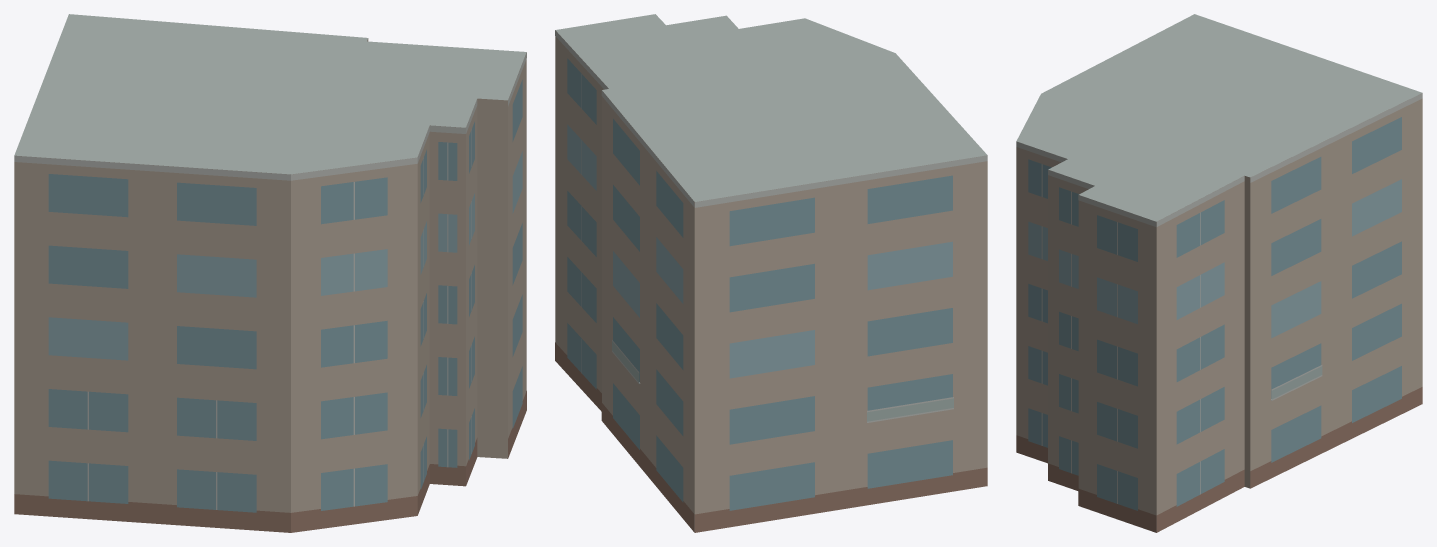
The model's file is survey-upis-32712327.glb.
3 views of the same model, side by side, from view 1: azimuth 30°, elevation 25°; view 2: azimuth 150°, elevation 25°; view 3: azimuth 270°, elevation 25° (orthographic). The views are drawn at different scales.
Parts seen in each view (by area): view 1: survey-upis-32712327.tmp; view 2: survey-upis-32712327.tmp; view 3: survey-upis-32712327.tmp.
Boxes of the visible parts, x1,y1,x2,y2 form: survey-upis-32712327.tmp: (14, 14, 526, 532); survey-upis-32712327.tmp: (555, 14, 987, 532); survey-upis-32712327.tmp: (1016, 14, 1422, 532).
Size of the model in its own units: 19.77 by 13.8 by 16.35.
